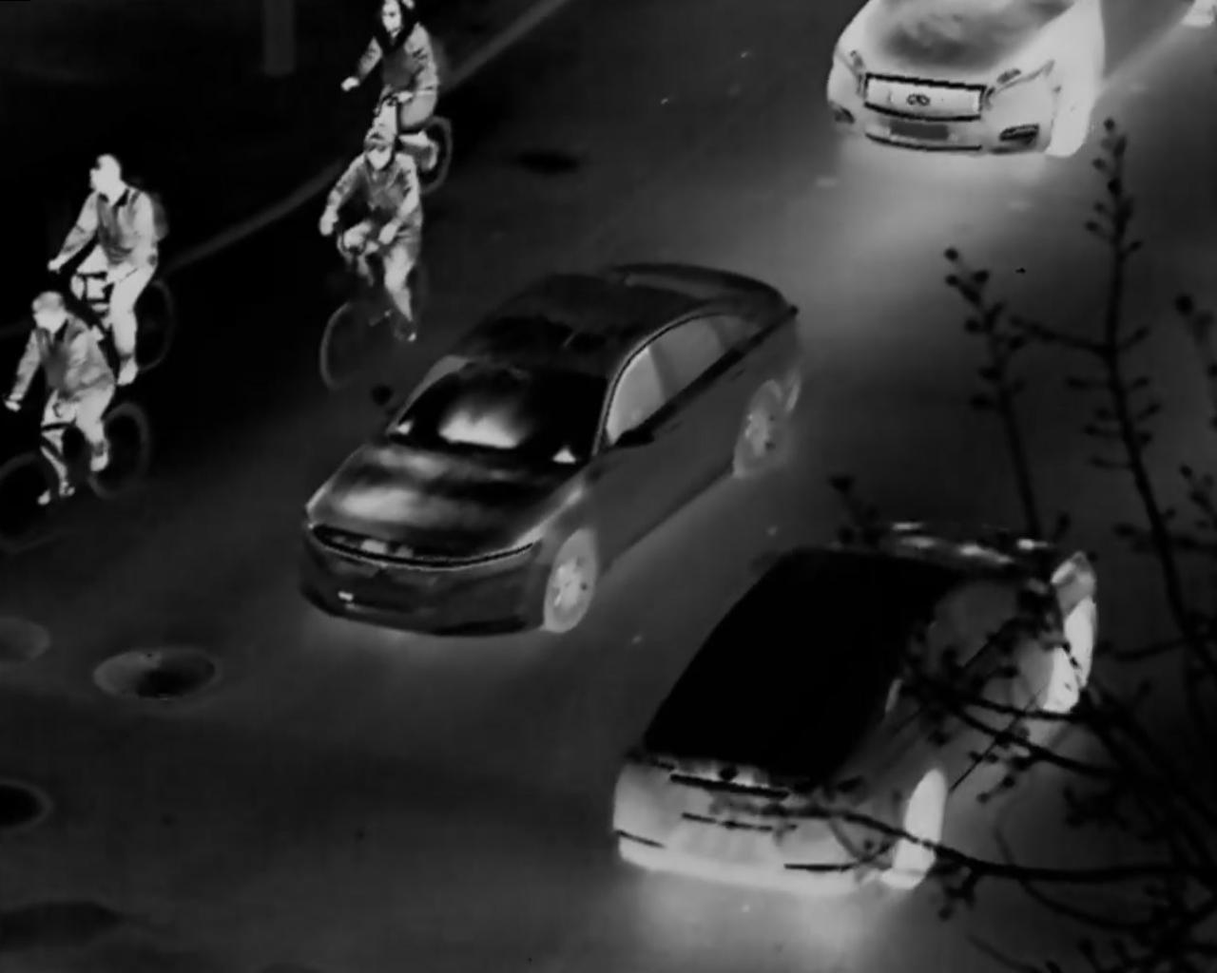person: (45, 152, 168, 387), (4, 292, 115, 506), (319, 124, 423, 347)
